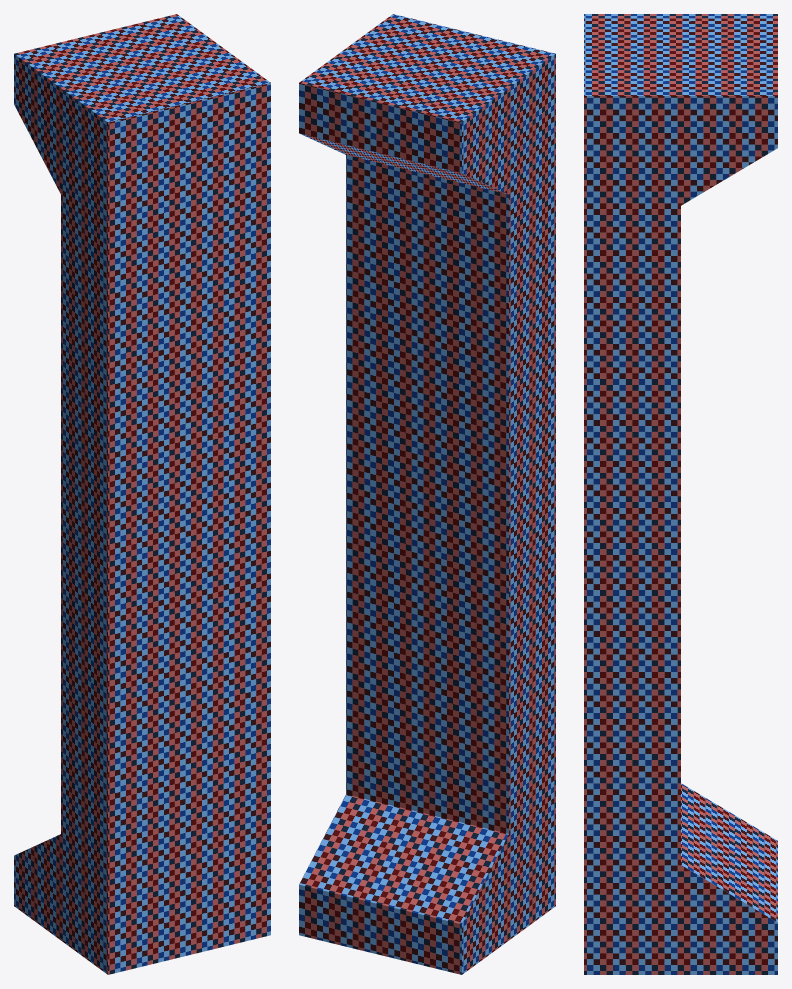
The model's file is column_edged_01.fbx.
3 views of the same model, side by side, from view 1: azimuth 30°, elevation 25°; view 2: azimuth 150°, elevation 25°; view 3: azimuth 270°, elevation 25° (orthographic). The views are drawn at different scales.
Parts seen in each view (by area): view 1: column_edged_01; view 2: column_edged_01; view 3: column_edged_01.
Boxes of the visible parts, <box> form: column_edged_01: <box>14,14,270,974</box>; column_edged_01: <box>299,14,555,974</box>; column_edged_01: <box>584,14,777,974</box>.
Bounding box in the file's own units: 100 × 500 × 100.
1 material, 1 textured.
